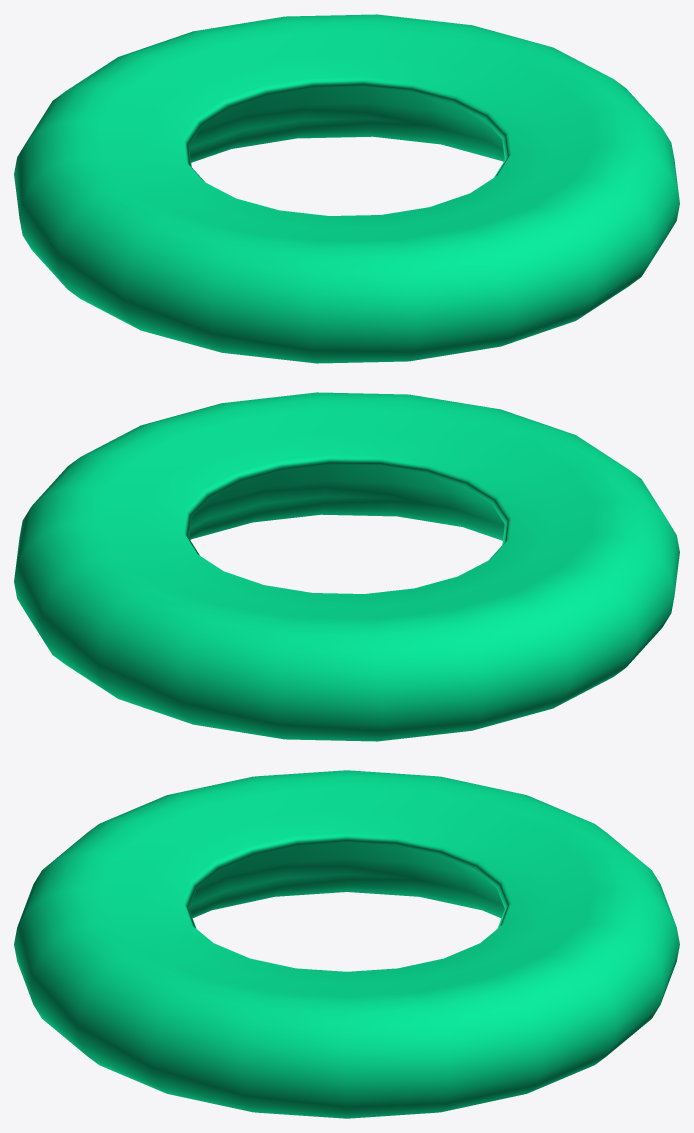
File: CollisionTorus.fbx
The picture shows the model from 3 angles, top to bottom: view 1: azimuth 30°, elevation 25°; view 2: azimuth 150°, elevation 25°; view 3: azimuth 270°, elevation 25°; orthographic projection.
Parts seen in each view (by area): view 1: pTorus29; view 2: pTorus29; view 3: pTorus29.
Boxes of the visible parts, x1,y1,x2,y2 form: pTorus29: (14, 14, 679, 363); pTorus29: (14, 392, 679, 741); pTorus29: (14, 770, 679, 1118).
Size of the model in its own units: 1327 by 242 by 1327.
